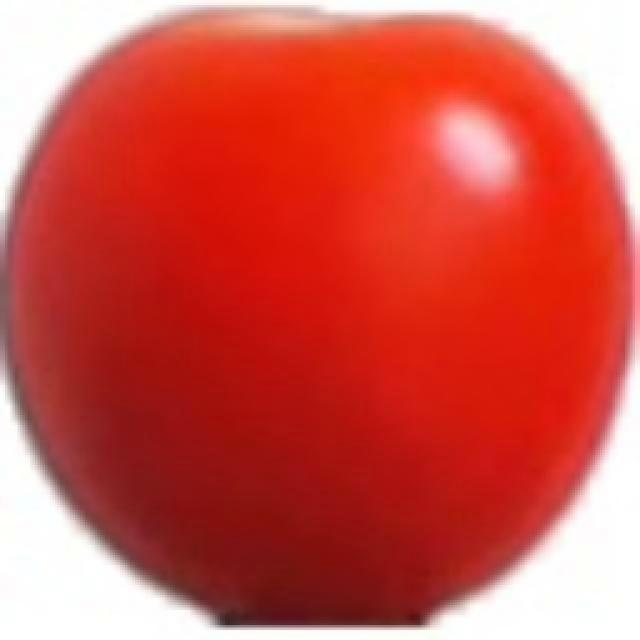tomato: (0, 7, 636, 629)
